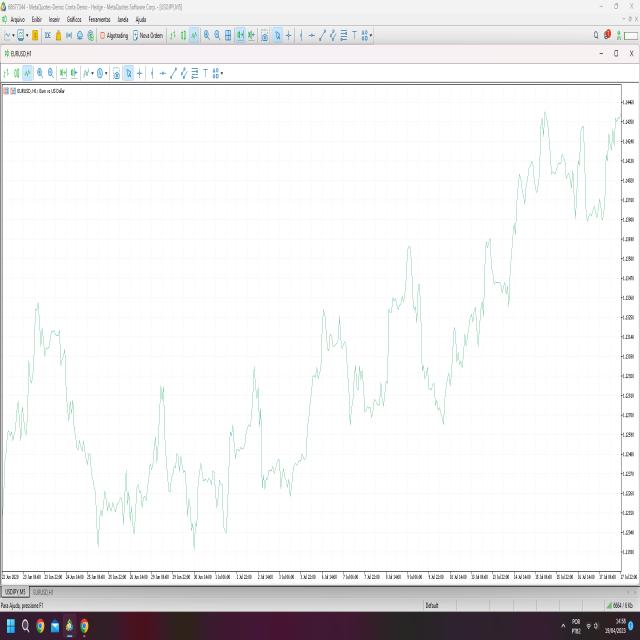bandeira_baixa: (61, 340, 125, 549)
oco: (372, 196, 436, 451)
